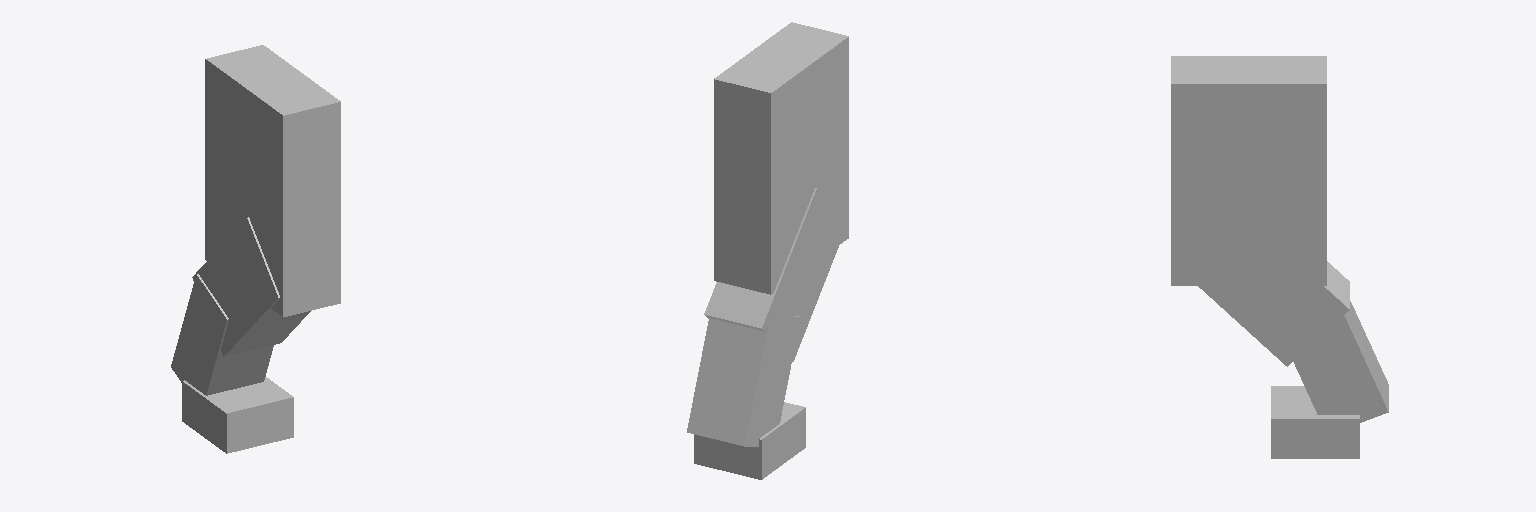
The model's file is tiger_hind_left_leg.obj.
The picture shows the model from 3 angles: view 1: azimuth 30°, elevation 25°; view 2: azimuth 150°, elevation 25°; view 3: azimuth 270°, elevation 25°; orthographic projection.
Parts seen in each view (by area): view 1: Element #2, Element #3, Element #5, Element #4; view 2: Element #2, Element #4, Element #3, Element #5; view 3: Element #2, Element #3, Element #4, Element #5.
Boxes of the visible parts, <box> form: Element #2: <box>205,45,340,316</box>; Element #3: <box>192,217,310,356</box>; Element #5: <box>182,377,293,453</box>; Element #4: <box>171,274,273,395</box>; Element #2: <box>714,22,848,294</box>; Element #4: <box>687,316,800,446</box>; Element #3: <box>704,188,847,361</box>; Element #5: <box>694,402,805,479</box>; Element #2: <box>1171,56,1326,285</box>; Element #3: <box>1198,261,1349,366</box>; Element #4: <box>1293,301,1388,422</box>; Element #5: <box>1271,386,1359,458</box>.
Bounding box in the file's own units: 3.5 × 18.5 × 9.77.